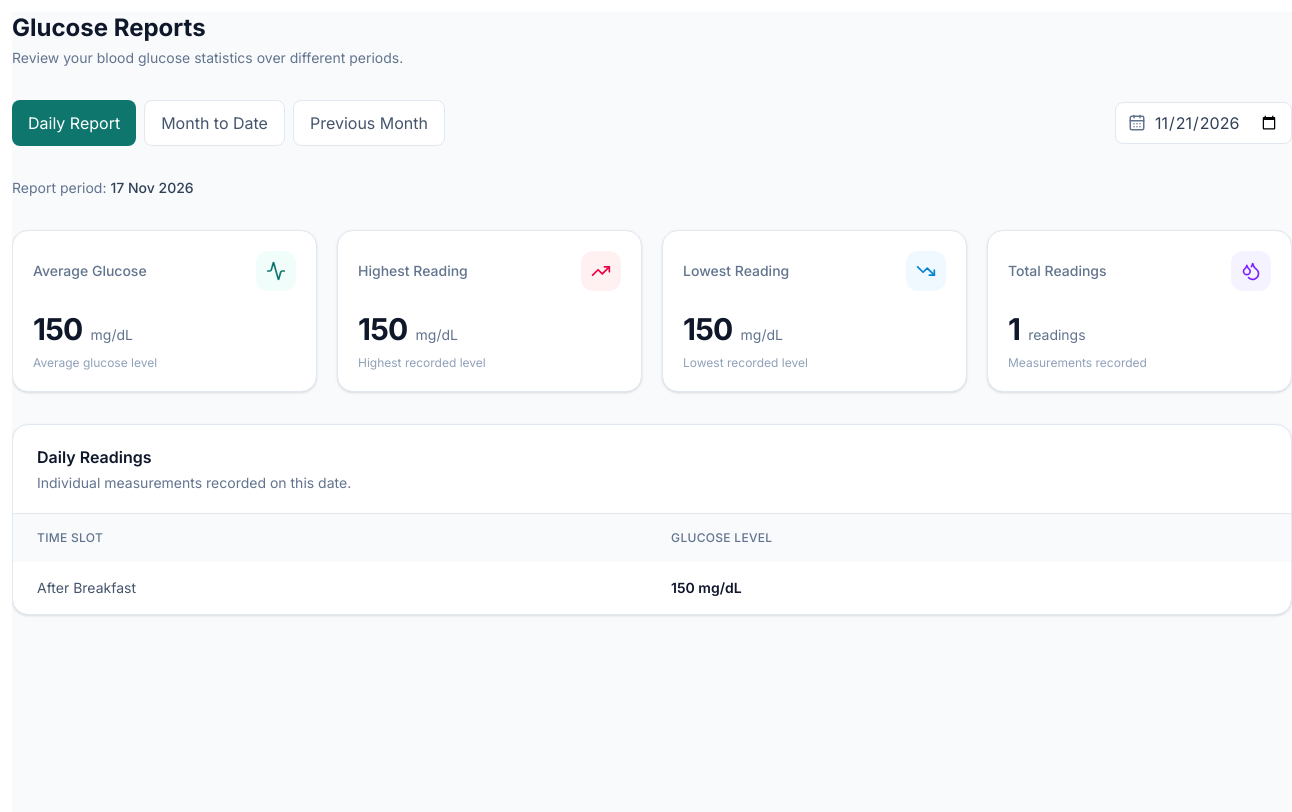
it: ReportsPage › loads the month-to-date report when selected
Expected: the heading "Daily Readings" is shown, [37,447,152,467]
Click the button "Month to Date": (214, 123) [144,100,285,146]
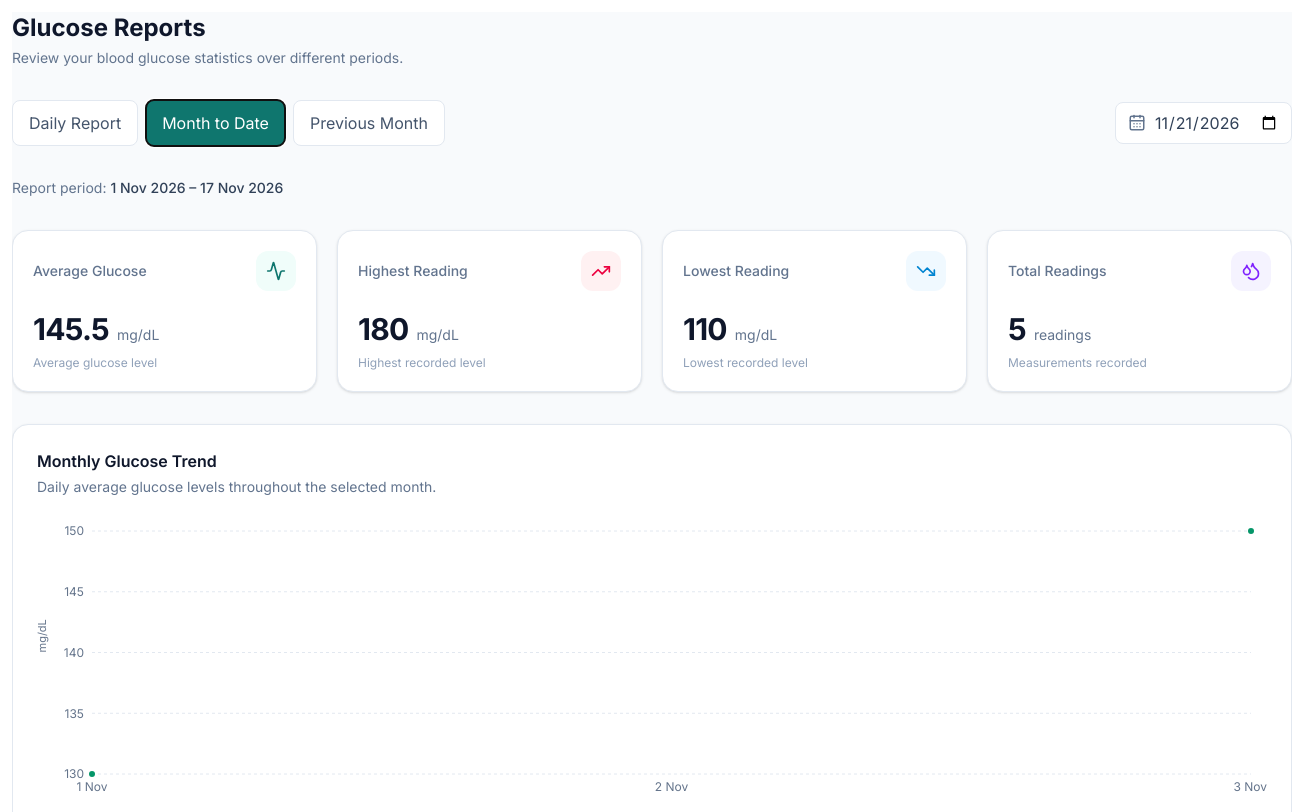
Expected: the text "145.5" is shown, [33,311,109,347]
Expected: the text "180" is shown, [358,311,408,347]
Expected: the text "110" is shown, [683,311,727,347]
